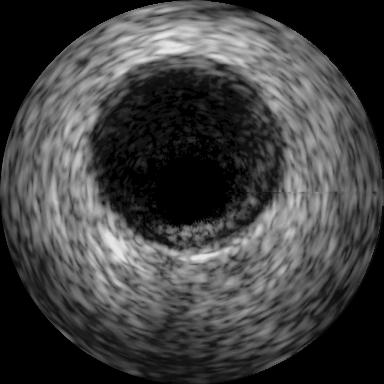Lumen: (149, 137, 236, 231)
